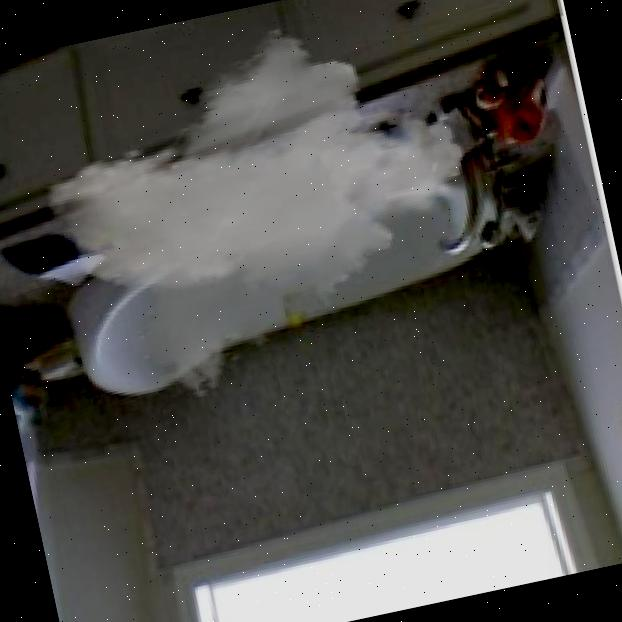smoke: (20, 0, 503, 422)
